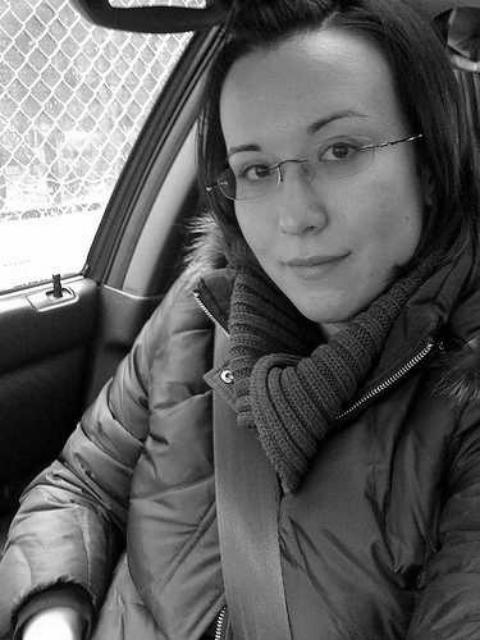SafeDriving: (312, 126, 370, 170), (233, 150, 286, 188)
Seatbelt: (202, 316, 300, 640)
